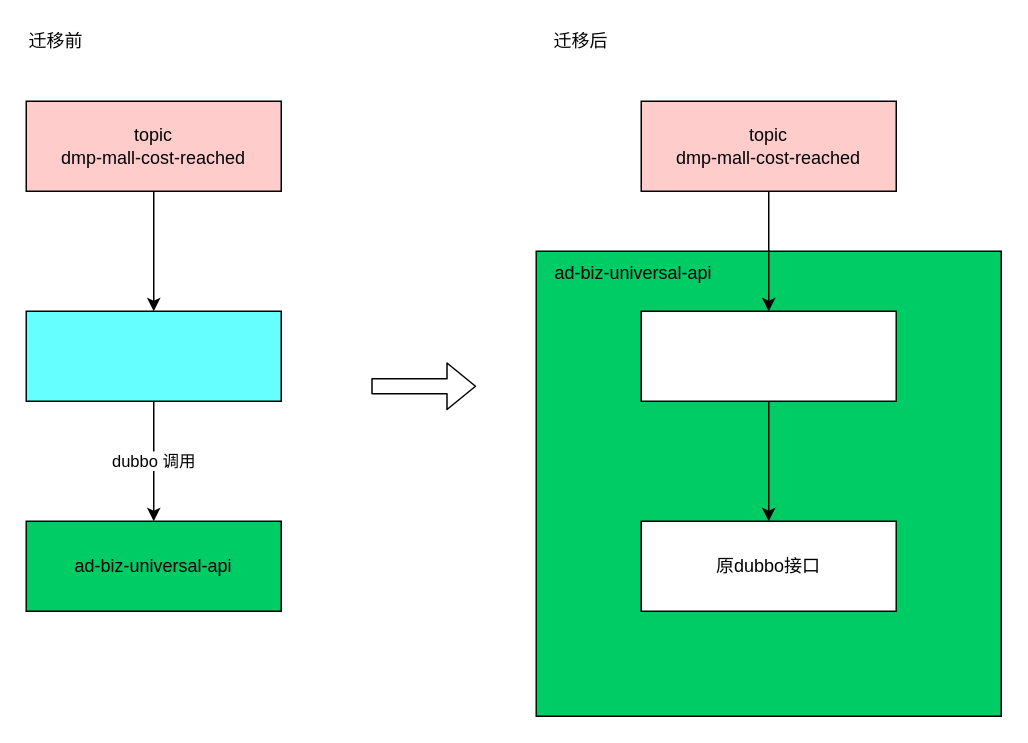
This 1028x743 diagram has some shape labels left out. Each missing label, with the box of its shape:
flink deathknight-dmp-mall-spend-reached: (25, 310, 281, 401)
tiger sdk process message: (640, 310, 896, 401)
